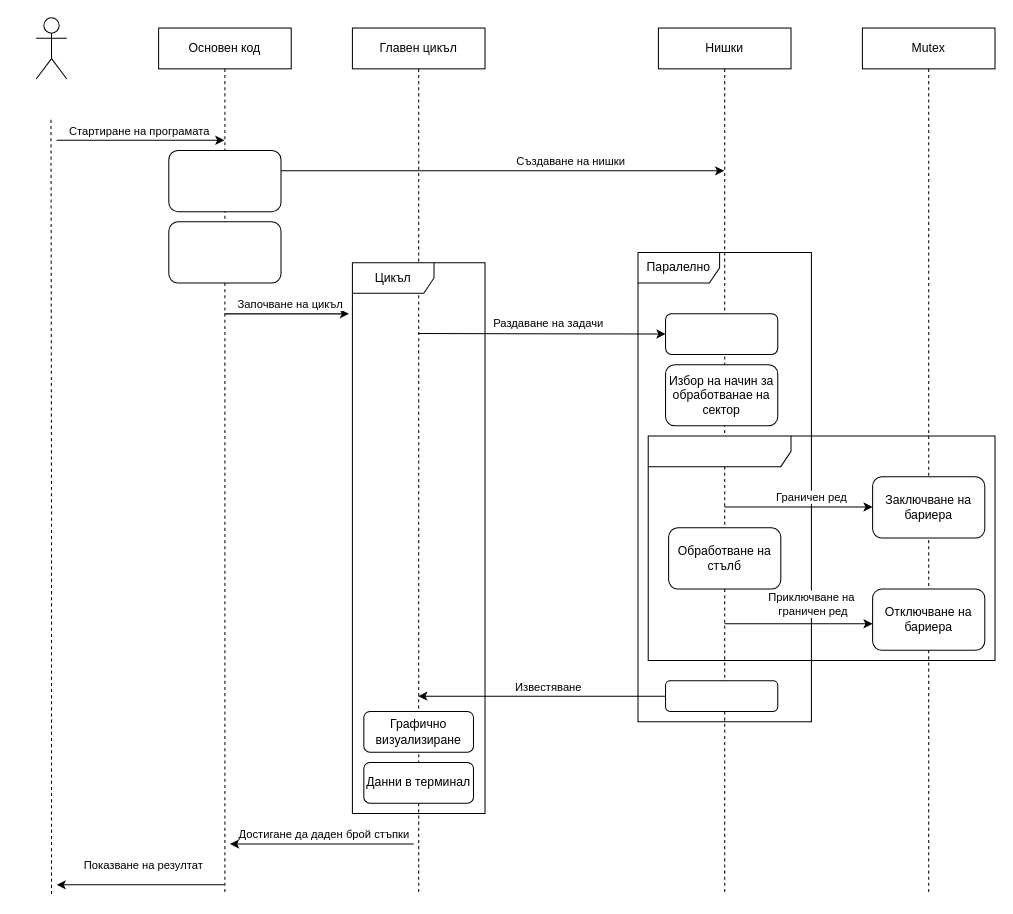
The diagram is 1013 pixels wide and 914 high, and some of its shapes have lost their labels. The shapes that lost their labels are listed below. From the top down, each one's centre as x and y in pixels, then its label:
At point (51, 48): "Потребител".
At point (224, 180): "Подготвяне на симулация".
At point (224, 252): "Подготвяне на визуализация".
At point (721, 333): "Приема на работа".
At point (821, 547): "Обработване на редове".
At point (721, 695): "Приключване".
